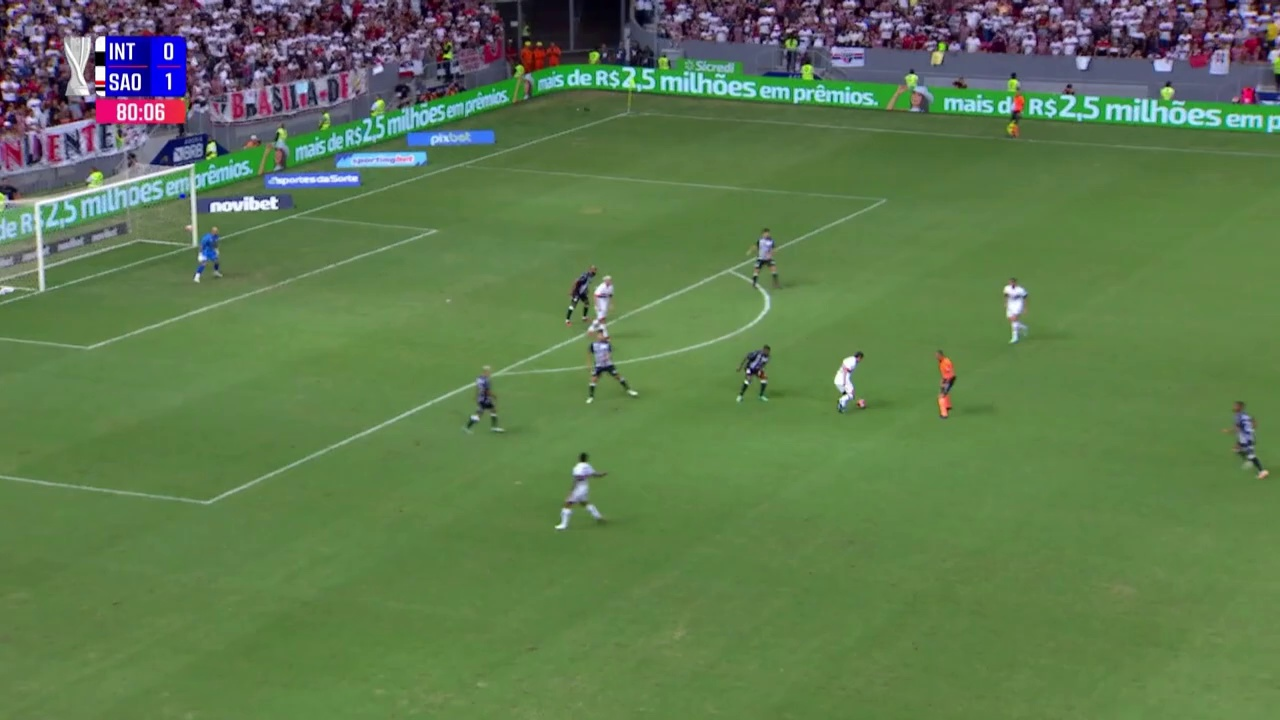ball: (518, 392, 557, 428)
